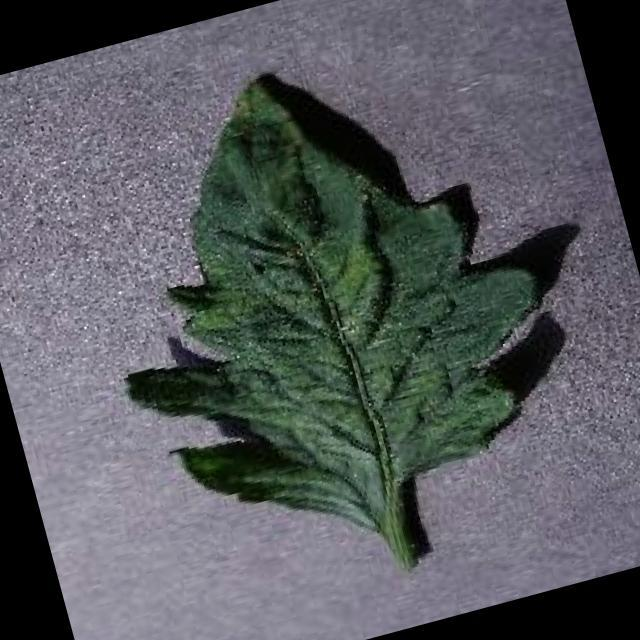Tomato mosaic virus leaf: (52, 9, 592, 584)
